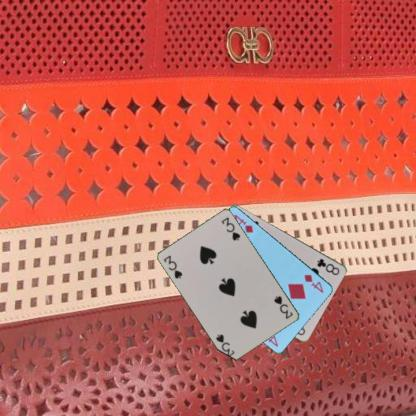3s: (161, 253, 184, 280), (272, 294, 294, 320)
4d: (302, 272, 324, 294)
8c: (315, 256, 341, 276)
